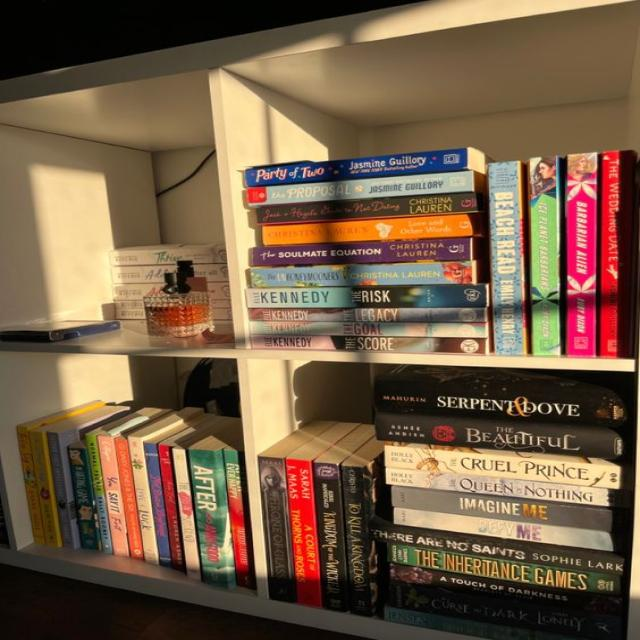book: (389, 582, 628, 640), (370, 523, 629, 575), (390, 562, 629, 615), (388, 543, 630, 595), (375, 413, 635, 460), (373, 381, 637, 426), (385, 445, 637, 490), (391, 486, 632, 533), (393, 508, 632, 553), (386, 468, 633, 509), (247, 147, 468, 186), (246, 171, 474, 206), (254, 192, 487, 226), (487, 162, 527, 355), (599, 150, 634, 357), (262, 214, 487, 246), (384, 607, 591, 640), (528, 156, 561, 355), (188, 450, 233, 591), (566, 153, 597, 356), (253, 239, 473, 266), (250, 262, 476, 287), (245, 286, 486, 309), (259, 456, 294, 603), (313, 462, 347, 612), (287, 458, 320, 607), (341, 465, 372, 616), (224, 448, 256, 590), (250, 336, 486, 354), (249, 322, 487, 339), (114, 439, 146, 559), (128, 437, 158, 565), (173, 448, 202, 580), (97, 436, 128, 554), (144, 442, 173, 568), (158, 446, 186, 571), (86, 433, 114, 554), (47, 431, 75, 550), (28, 431, 57, 545), (16, 426, 42, 544), (68, 448, 98, 549), (247, 310, 485, 322)
